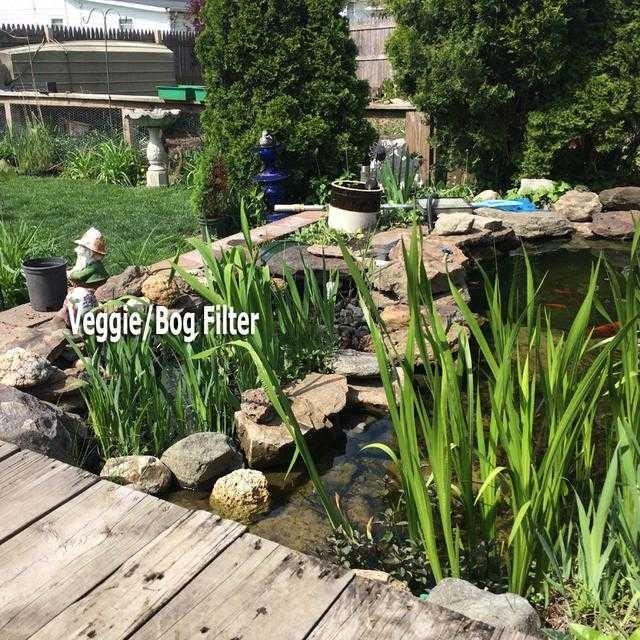Ponds: (1, 186, 640, 640)
